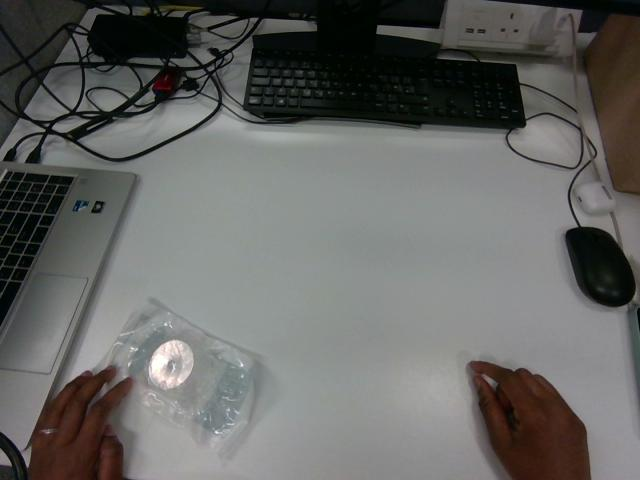gallipot: (106, 304, 253, 453)
